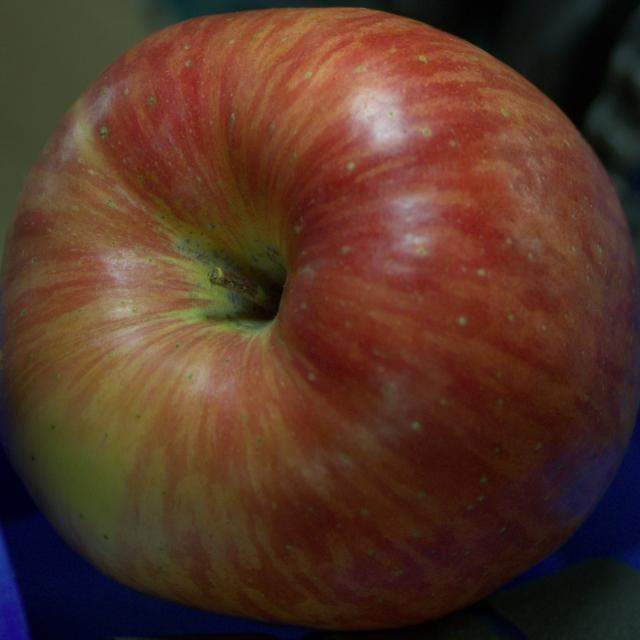apple: (0, 8, 639, 628)
bruise: (545, 453, 619, 524)
